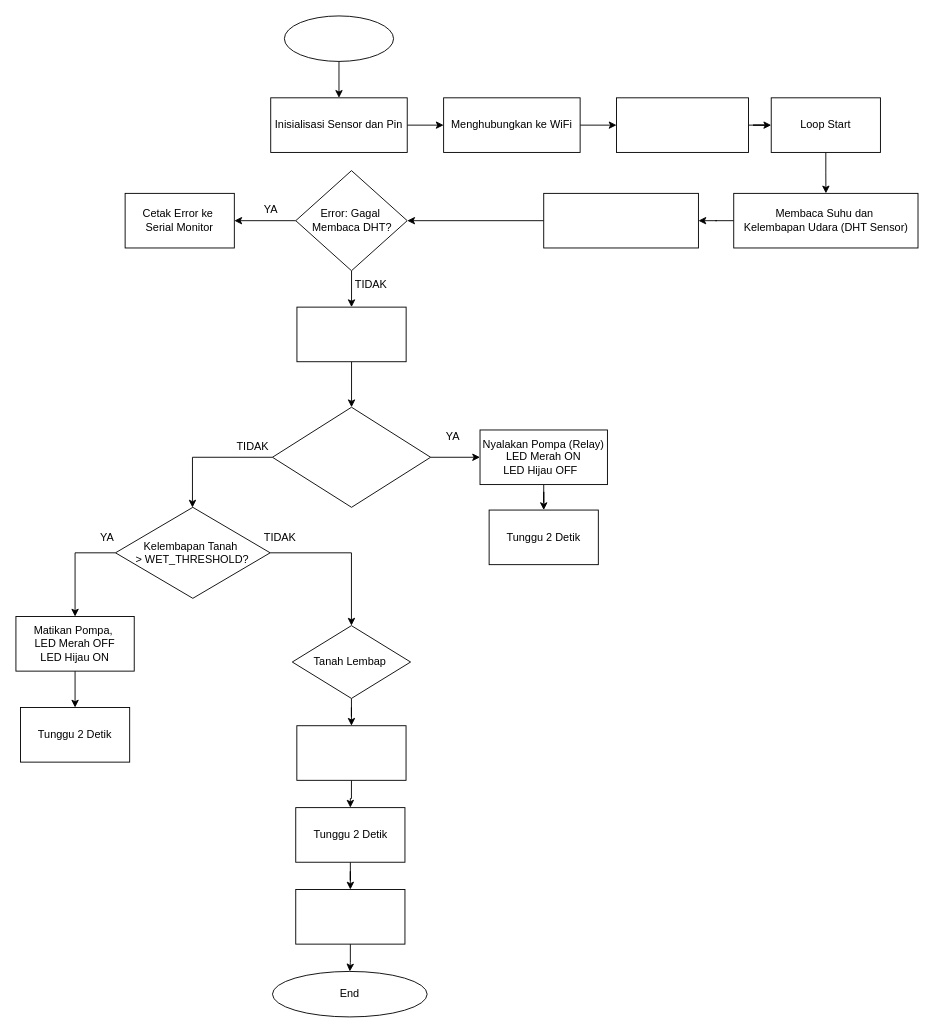
The diagram is 935 pixels wide and 1033 high, and some of its shapes have lost their labels. The box of each missing label's shape, as (x1, y1, x2, y2) in pixels:
Kelembapan Tanah < DRY_THRESHOLD?: (272, 406, 431, 507)
Kirim Data ke Blynk: (296, 306, 406, 362)
Loop End (Ulangi): (295, 889, 405, 944)
Membaca Kelembapan Tanah (Analog ke Persentase): (543, 192, 698, 248)
Menghubungkan ke Blynk: (616, 97, 748, 152)
Pompa OFF LED Hijau ON LED Merah OFF: (296, 725, 406, 780)
Start: (283, 15, 394, 61)
